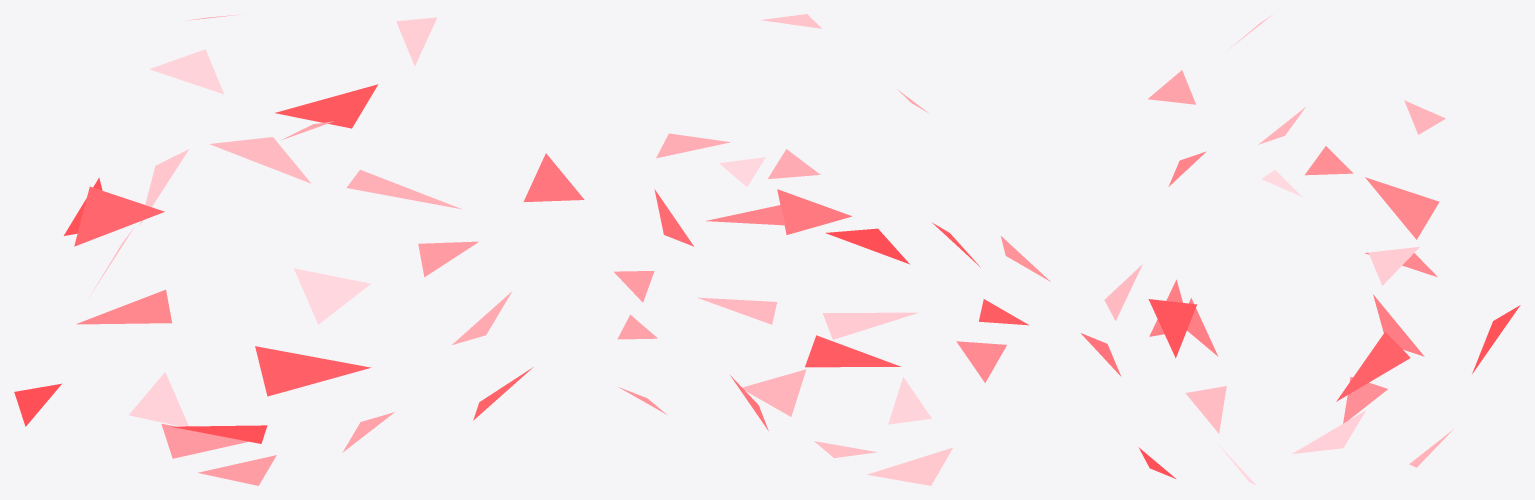
The model's file is fly.glb.
3 views of the same model, side by side, from view 1: azimuth 30°, elevation 25°; view 2: azimuth 150°, elevation 25°; view 3: azimuth 270°, elevation 25° (orthographic). The views are drawn at different scales.
Visible parts, largest first — view 1: wisp; view 2: wisp; view 3: wisp.
Boxes of the visible parts, x1,y1,x2,y2 form: wisp: (14, 14, 584, 485); wisp: (614, 14, 1050, 485); wisp: (1081, 15, 1520, 485).
Bounding box in the file's own units: 5.99 × 5.27 × 5.01.
